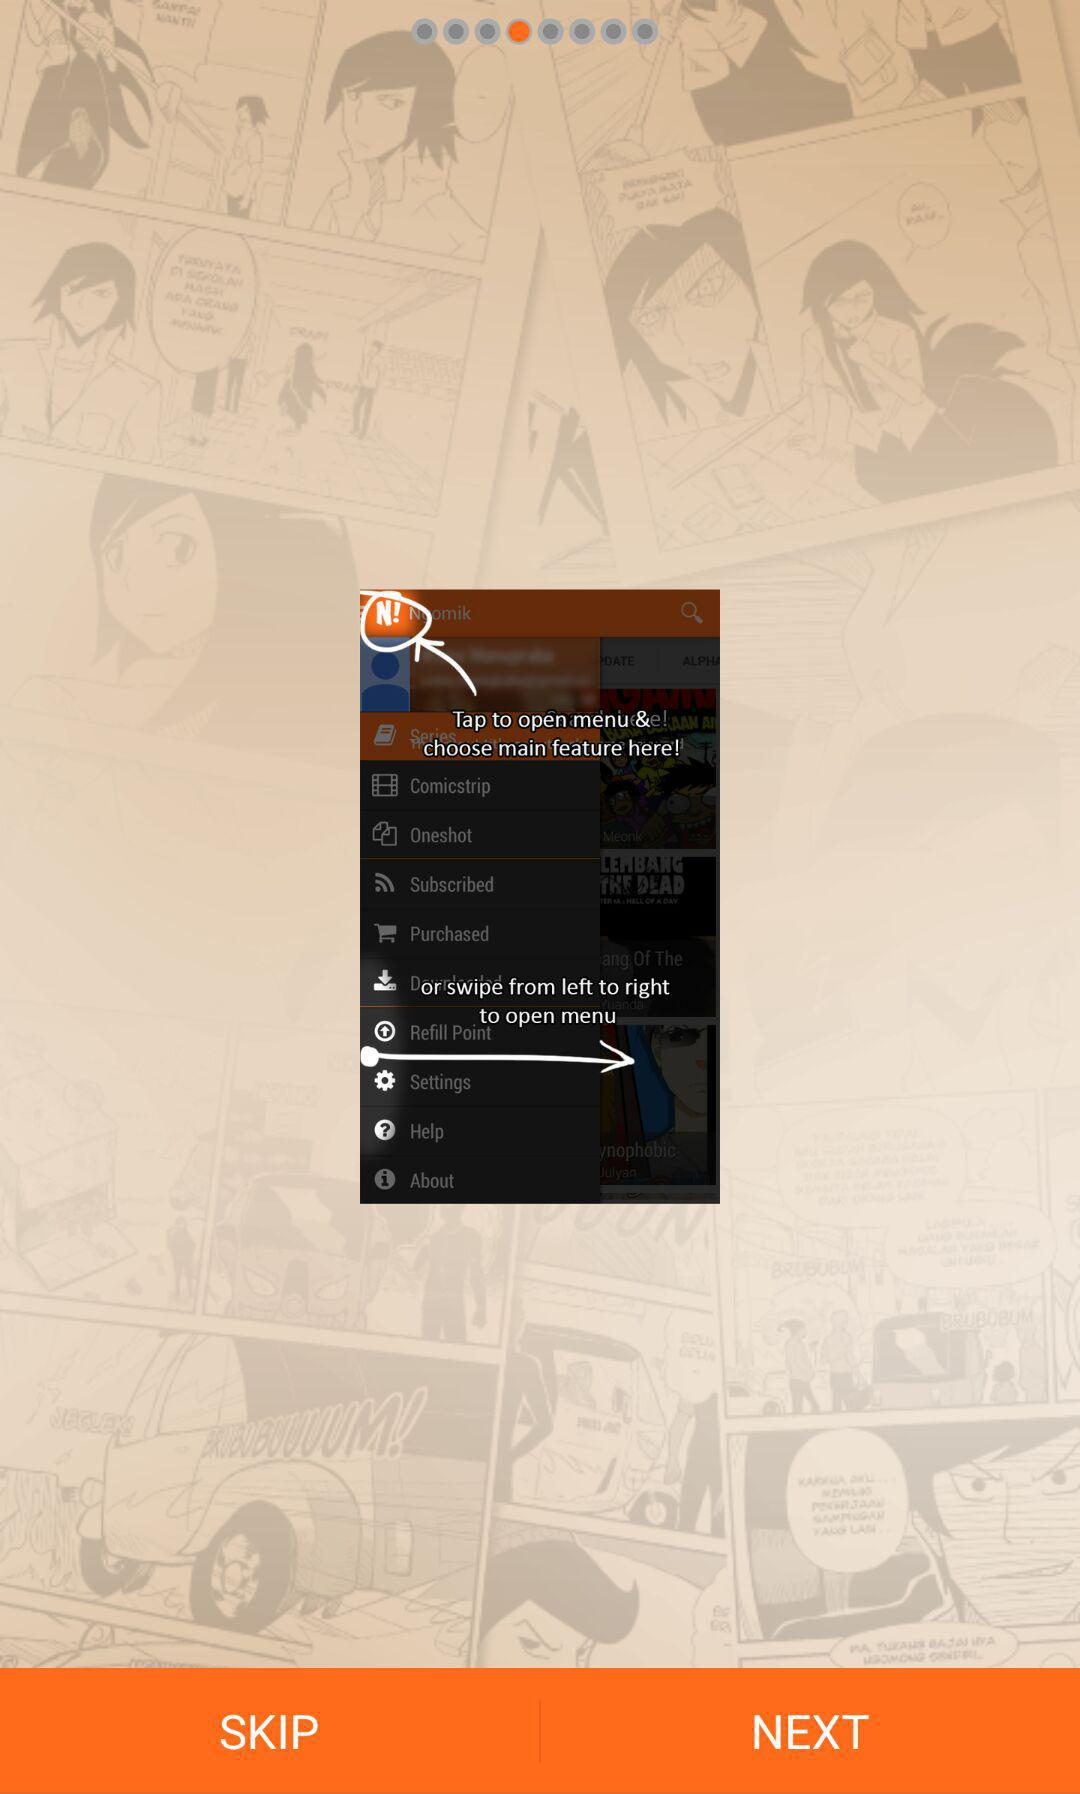BackgroundImage: (1, 1, 1080, 1668)
Image: (360, 589, 721, 1205)
PageIndicator: (410, 18, 659, 47)
TextButton: (1, 1668, 541, 1794), (541, 1668, 1080, 1794)
